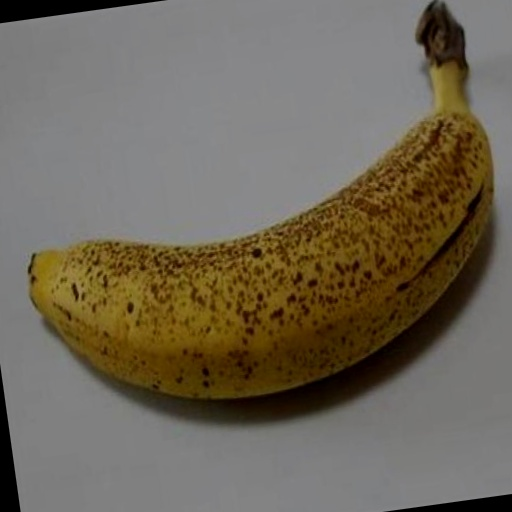fruit: (29, 1, 493, 398)
